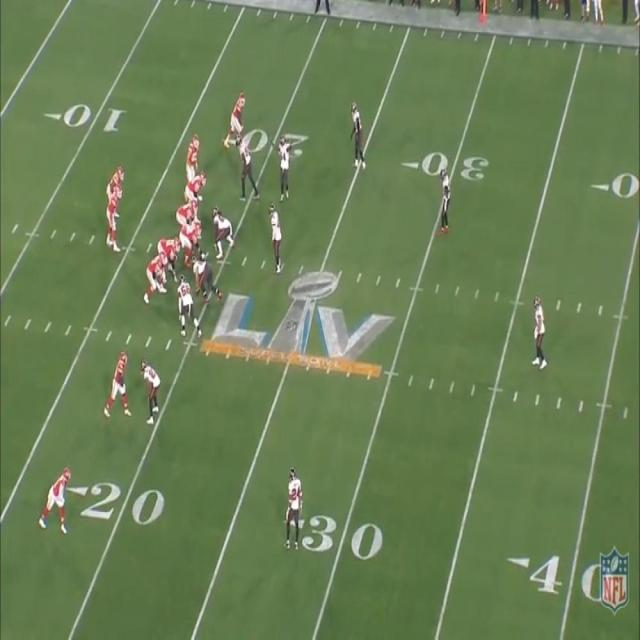center: (178, 221, 203, 248)
db: (528, 296, 546, 363), (349, 100, 367, 166), (140, 363, 160, 420), (286, 469, 300, 544), (439, 171, 451, 228)
lb: (267, 207, 283, 267), (276, 133, 290, 193)
qb: (106, 185, 122, 252)
skill: (47, 467, 70, 529), (110, 353, 126, 415), (229, 94, 245, 138), (184, 132, 199, 170), (111, 165, 124, 183)
